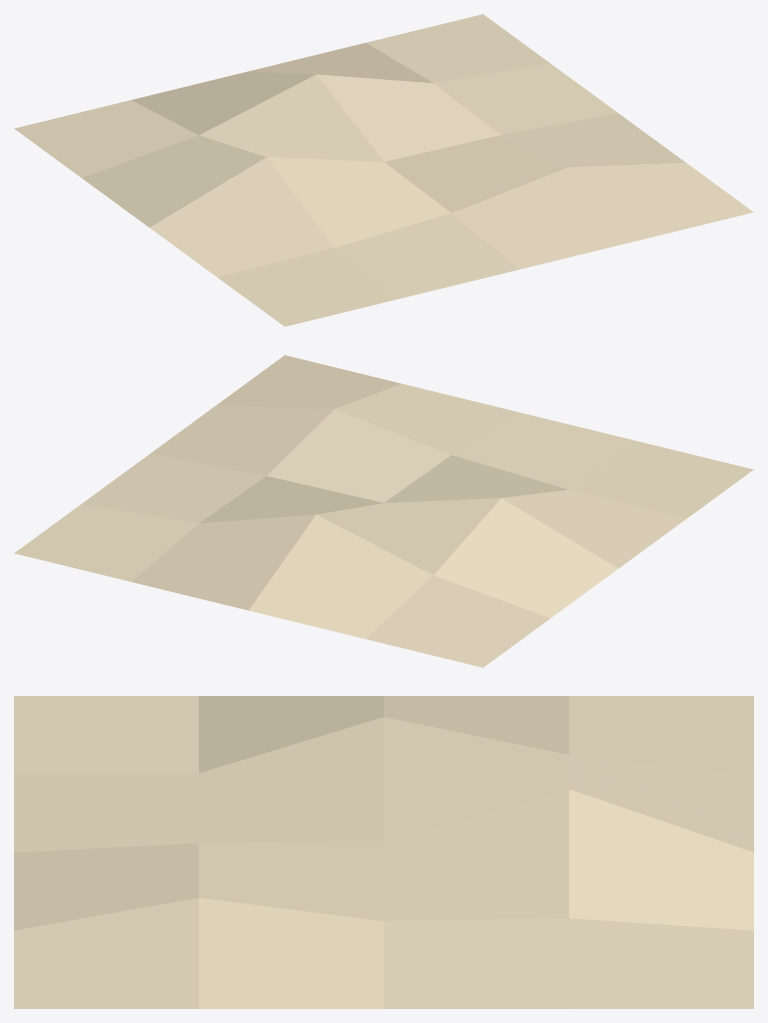
Rendered from Tile_14_Sand_Dune.glb.
3 views of the same model, one above another, from view 1: azimuth 30°, elevation 25°; view 2: azimuth 150°, elevation 25°; view 3: azimuth 270°, elevation 25° (orthographic). The views are drawn at different scales.
Visible parts, largest first — view 1: Tile_Sand_Dune; view 2: Tile_Sand_Dune; view 3: Tile_Sand_Dune.
Boxes of the visible parts, <box> form: Tile_Sand_Dune: <box>14,14,753,326</box>; Tile_Sand_Dune: <box>14,355,753,667</box>; Tile_Sand_Dune: <box>14,696,753,1008</box>.
Bounding box in the file's own units: 0.2 × 0.0189 × 0.2.
